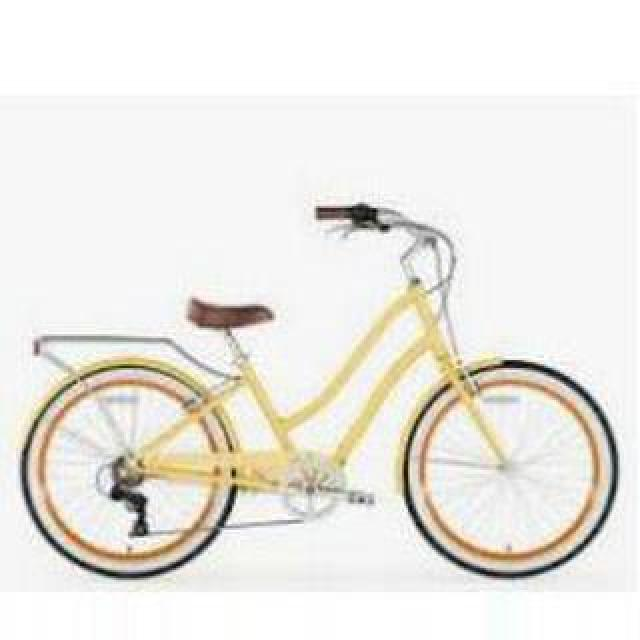Person: (14, 205, 618, 581)
